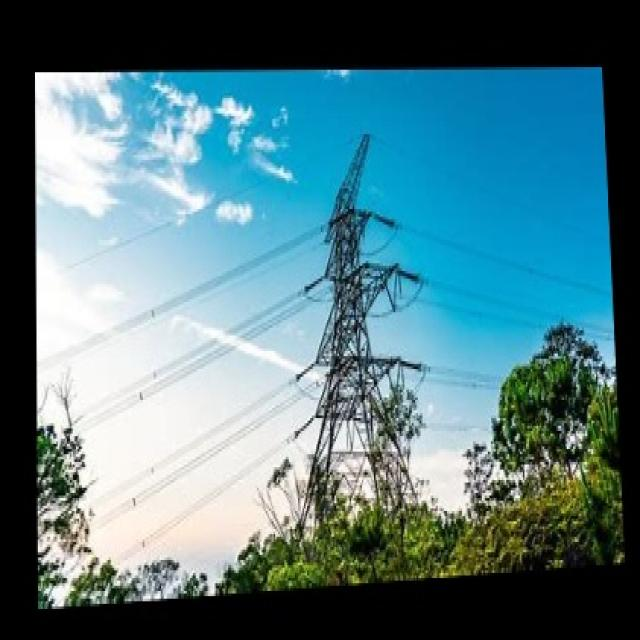utility poles: (470, 294, 592, 452), (339, 345, 432, 512)
